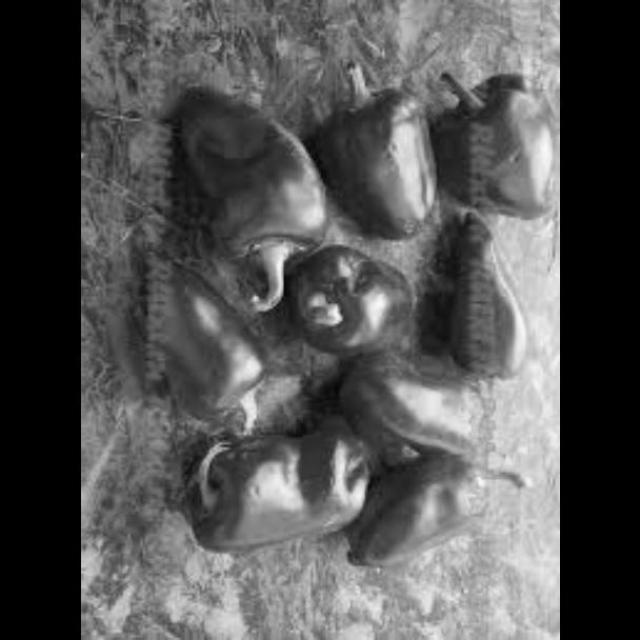ot chuong: (174, 68, 342, 281), (179, 414, 385, 567), (124, 253, 282, 433), (314, 68, 438, 252), (321, 346, 508, 468), (345, 444, 497, 580), (432, 68, 560, 220), (436, 204, 540, 390), (284, 242, 438, 360)
